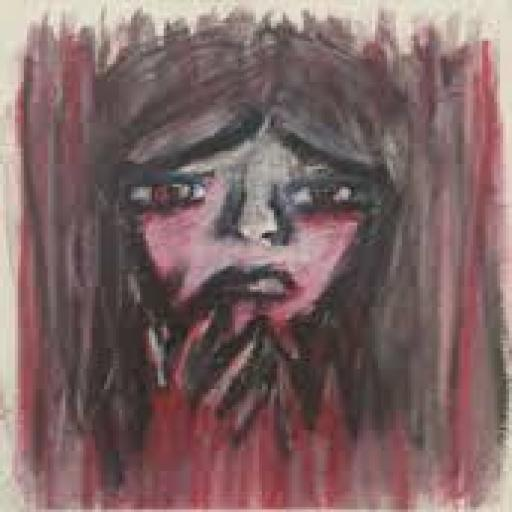person: (62, 48, 456, 452)
